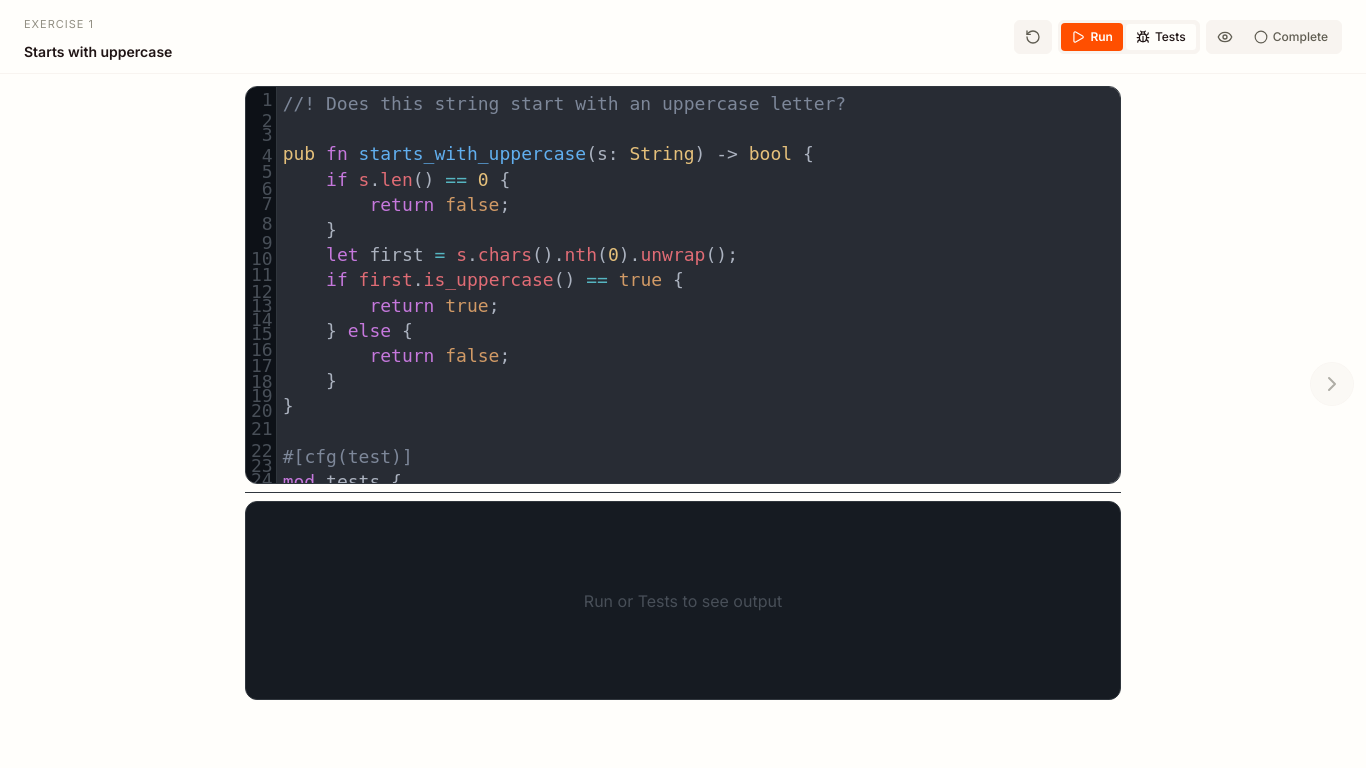
Test: ExerciseView › shows modal when solution button clicked
The width and height of the screenshot is (1366, 768).
Step 1. Click the button with class "btn-ghost" → (1225, 36), box [1209,22,1241,50]
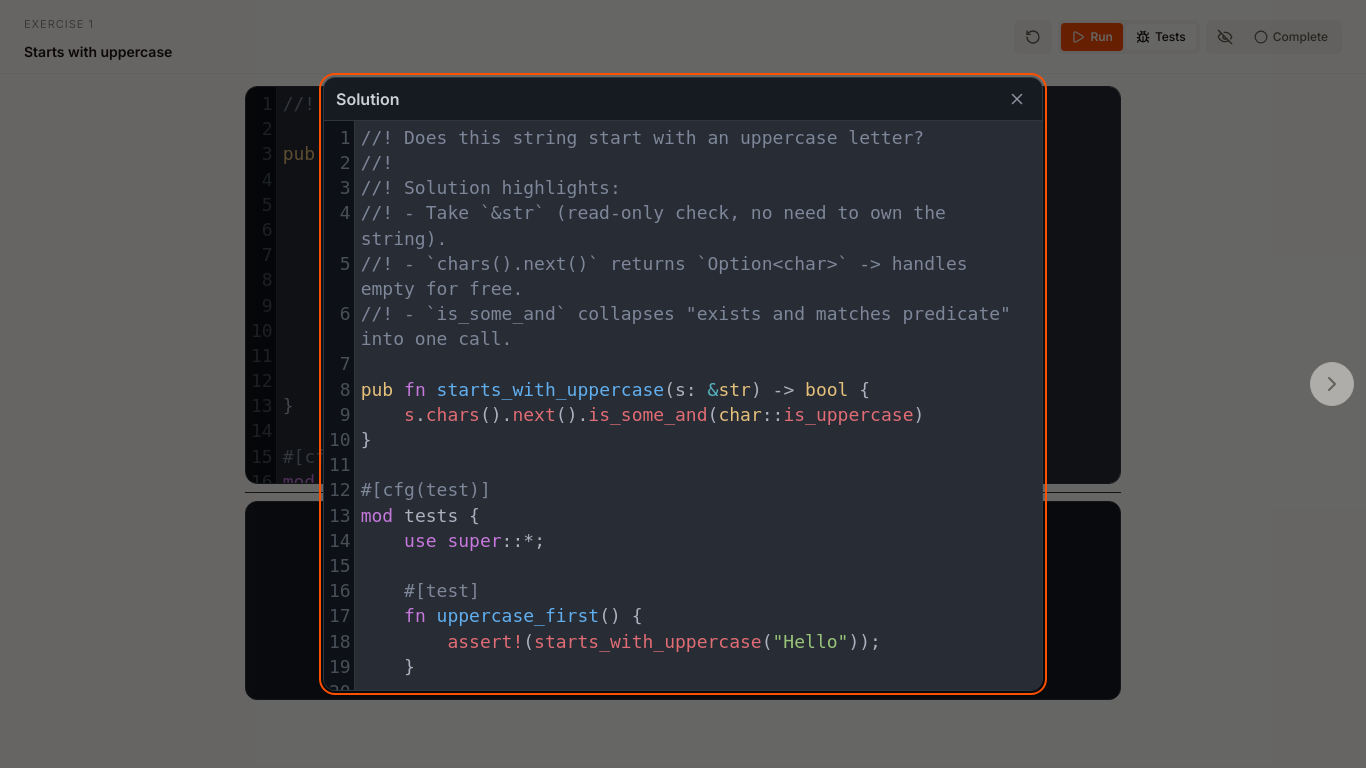
Result: the element with class "modal-overlay" is shown
Result: the text "Solution" is shown at [336,87,400,111]
